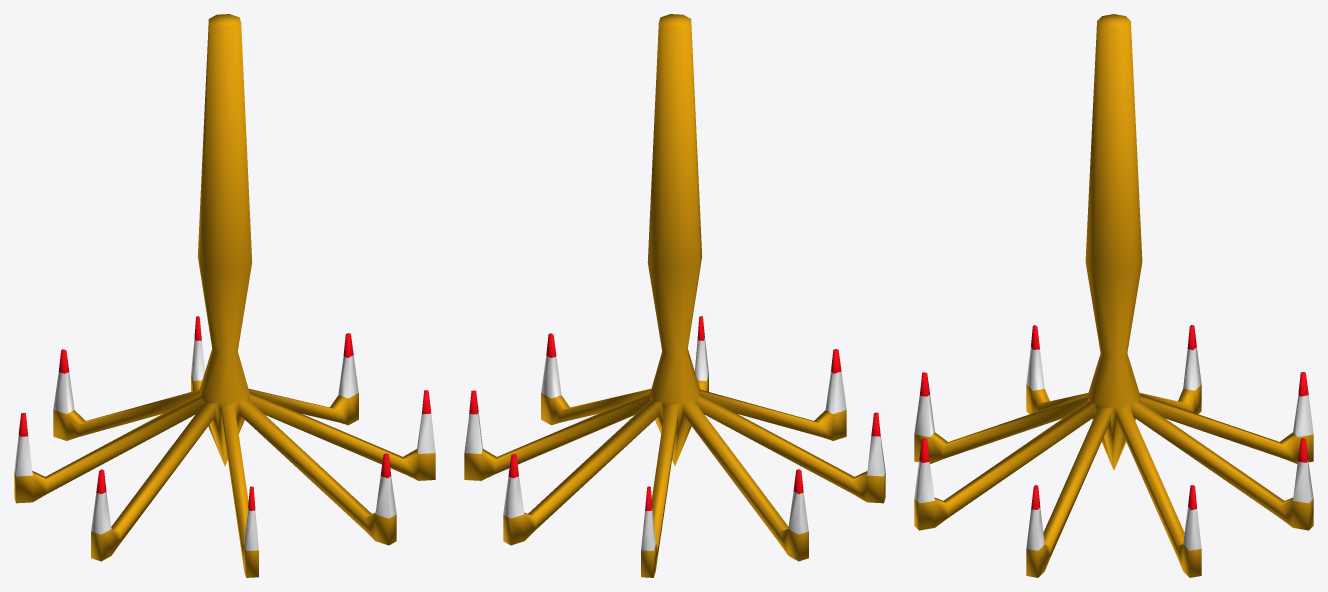
Rendered from ChandelierGolden.fbx.
3 renders of one model, left to right at view 1: azimuth 30°, elevation 25°; view 2: azimuth 150°, elevation 25°; view 3: azimuth 270°, elevation 25°, orthographic.
Parts seen in each view (by area): view 1: Cube; view 2: Cube; view 3: Cube.
Part boxes in pixels (x1=…): Cube: x1=14, y1=14, x2=435, y2=577; Cube: x1=464, y1=14, x2=885, y2=577; Cube: x1=914, y1=14, x2=1313, y2=577.
Size of the model in its own units: 758 by 989 by 758.
